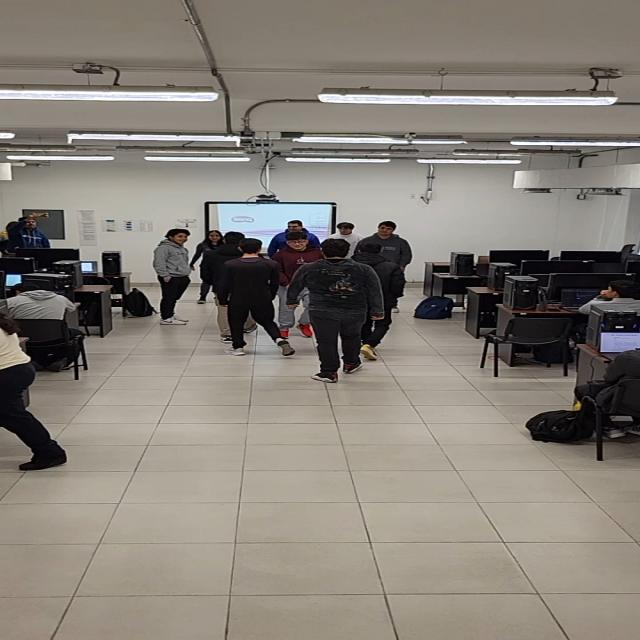Persona: (296, 235, 374, 384), (222, 236, 277, 361), (356, 236, 398, 364), (147, 225, 192, 330), (279, 230, 312, 337), (194, 225, 223, 305)
